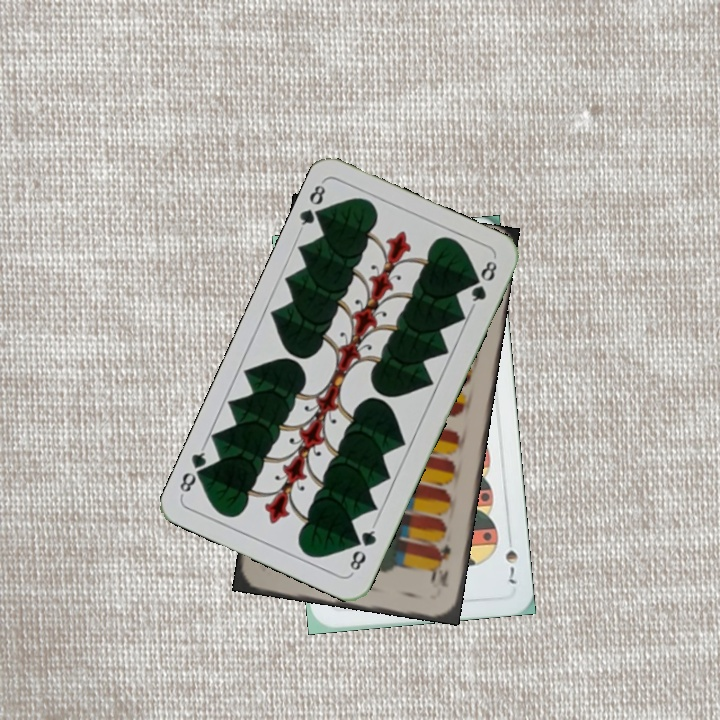E10: (429, 539, 453, 590)
G8: (295, 178, 330, 234), (345, 520, 379, 576)
S7: (501, 545, 520, 586)
